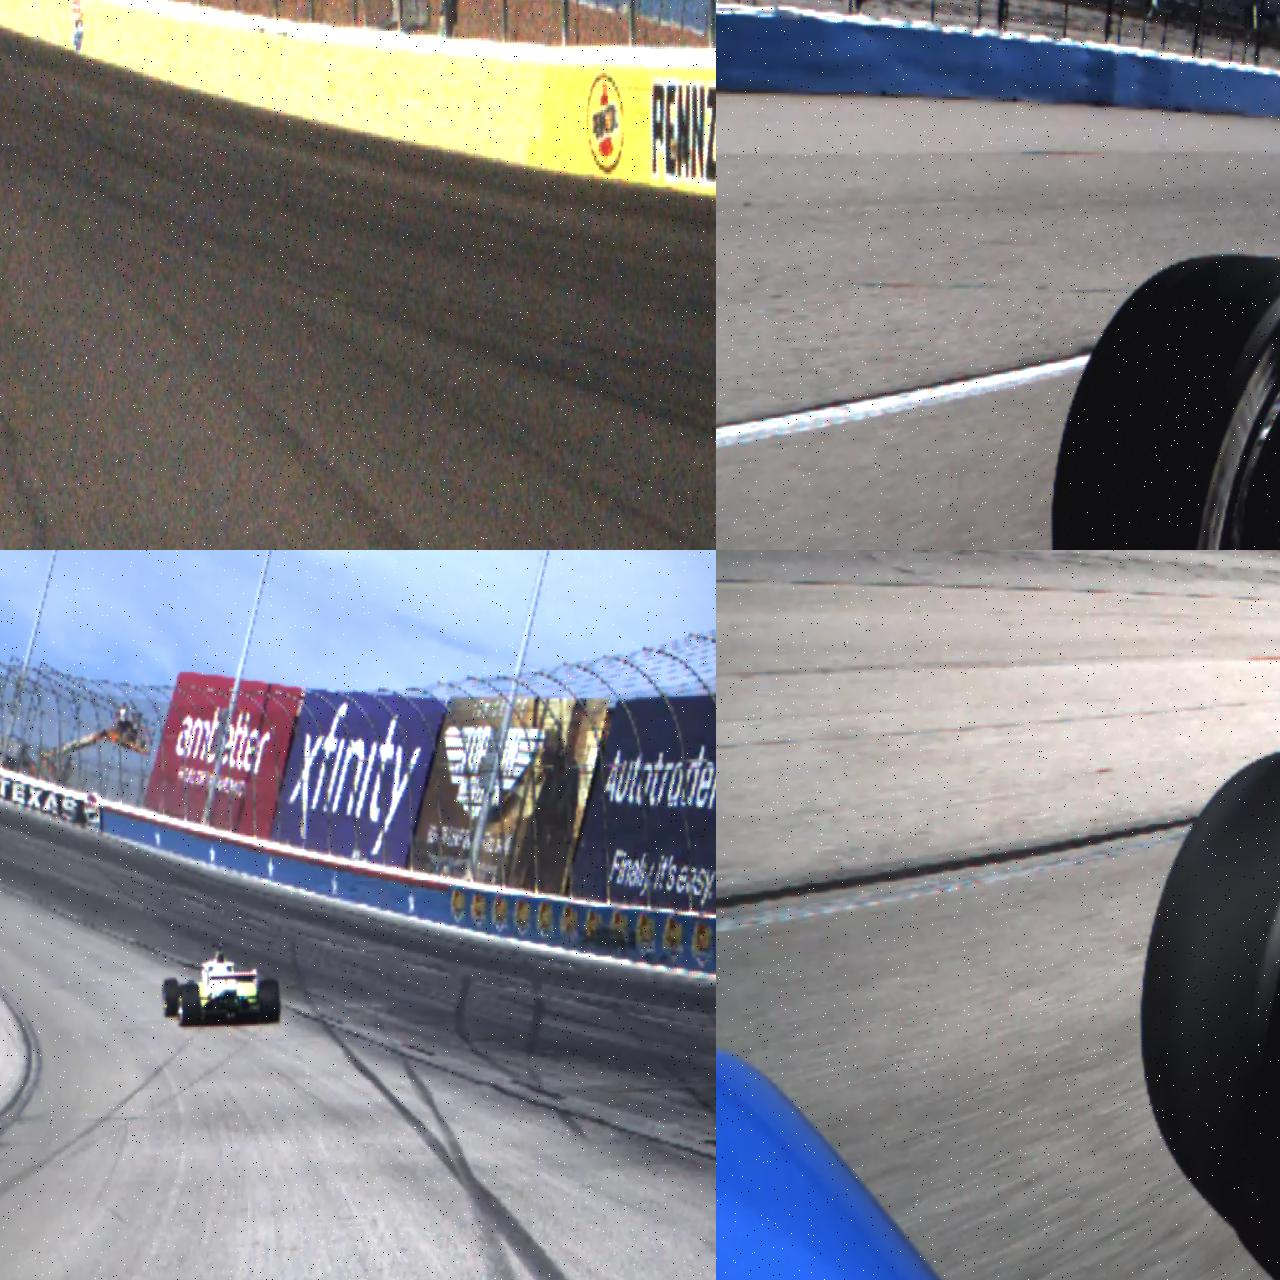AV: (161, 940, 281, 1028)
Wheel: (1135, 743, 1280, 1262), (1043, 248, 1280, 550), (258, 979, 280, 1023), (178, 983, 200, 1027), (163, 978, 181, 1017)
